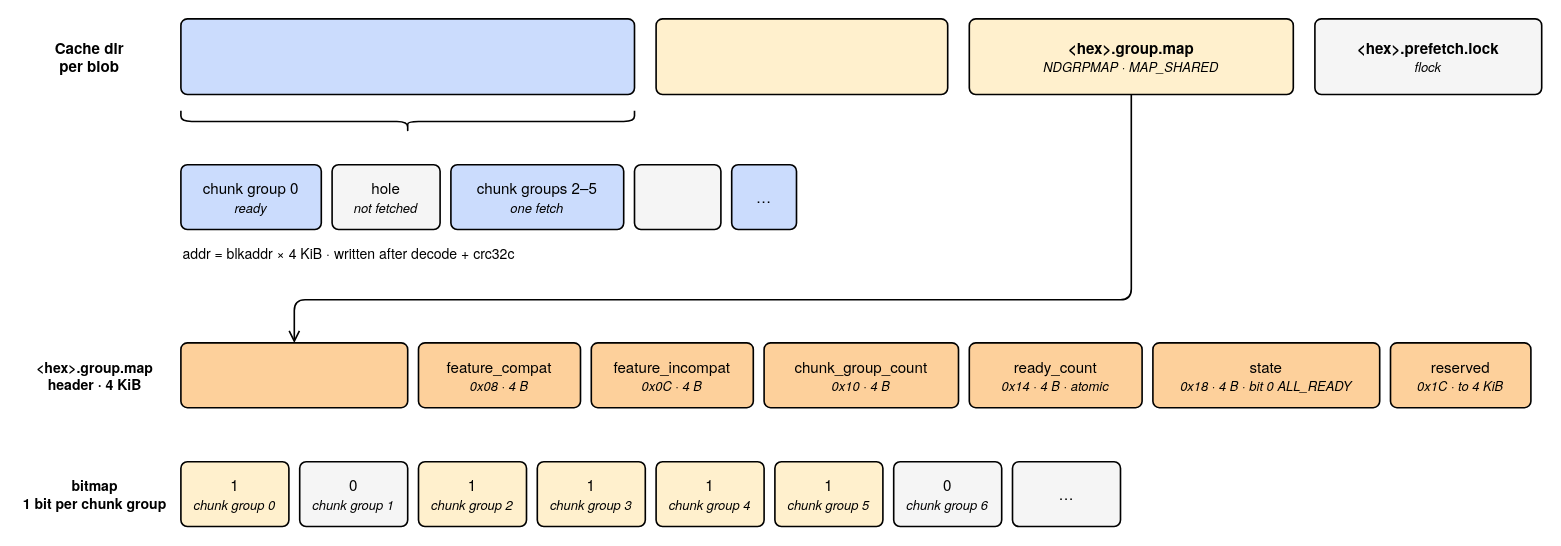
The diagram is 1561 pixels wide and 546 high, and some of its shapes have lost their labels. Each missing label, with the box of its shape:
<hex>.blob.data device image · sparse · <hex> = SHA256(full blob): (180, 18, 635, 95)
<hex>.blob.meta NDBLMETA · from the tar · else via footer: (655, 18, 948, 95)
hole: (633, 163, 721, 230)
magic 0x00 · 8 B · "NDGRPMAP": (180, 342, 408, 408)
